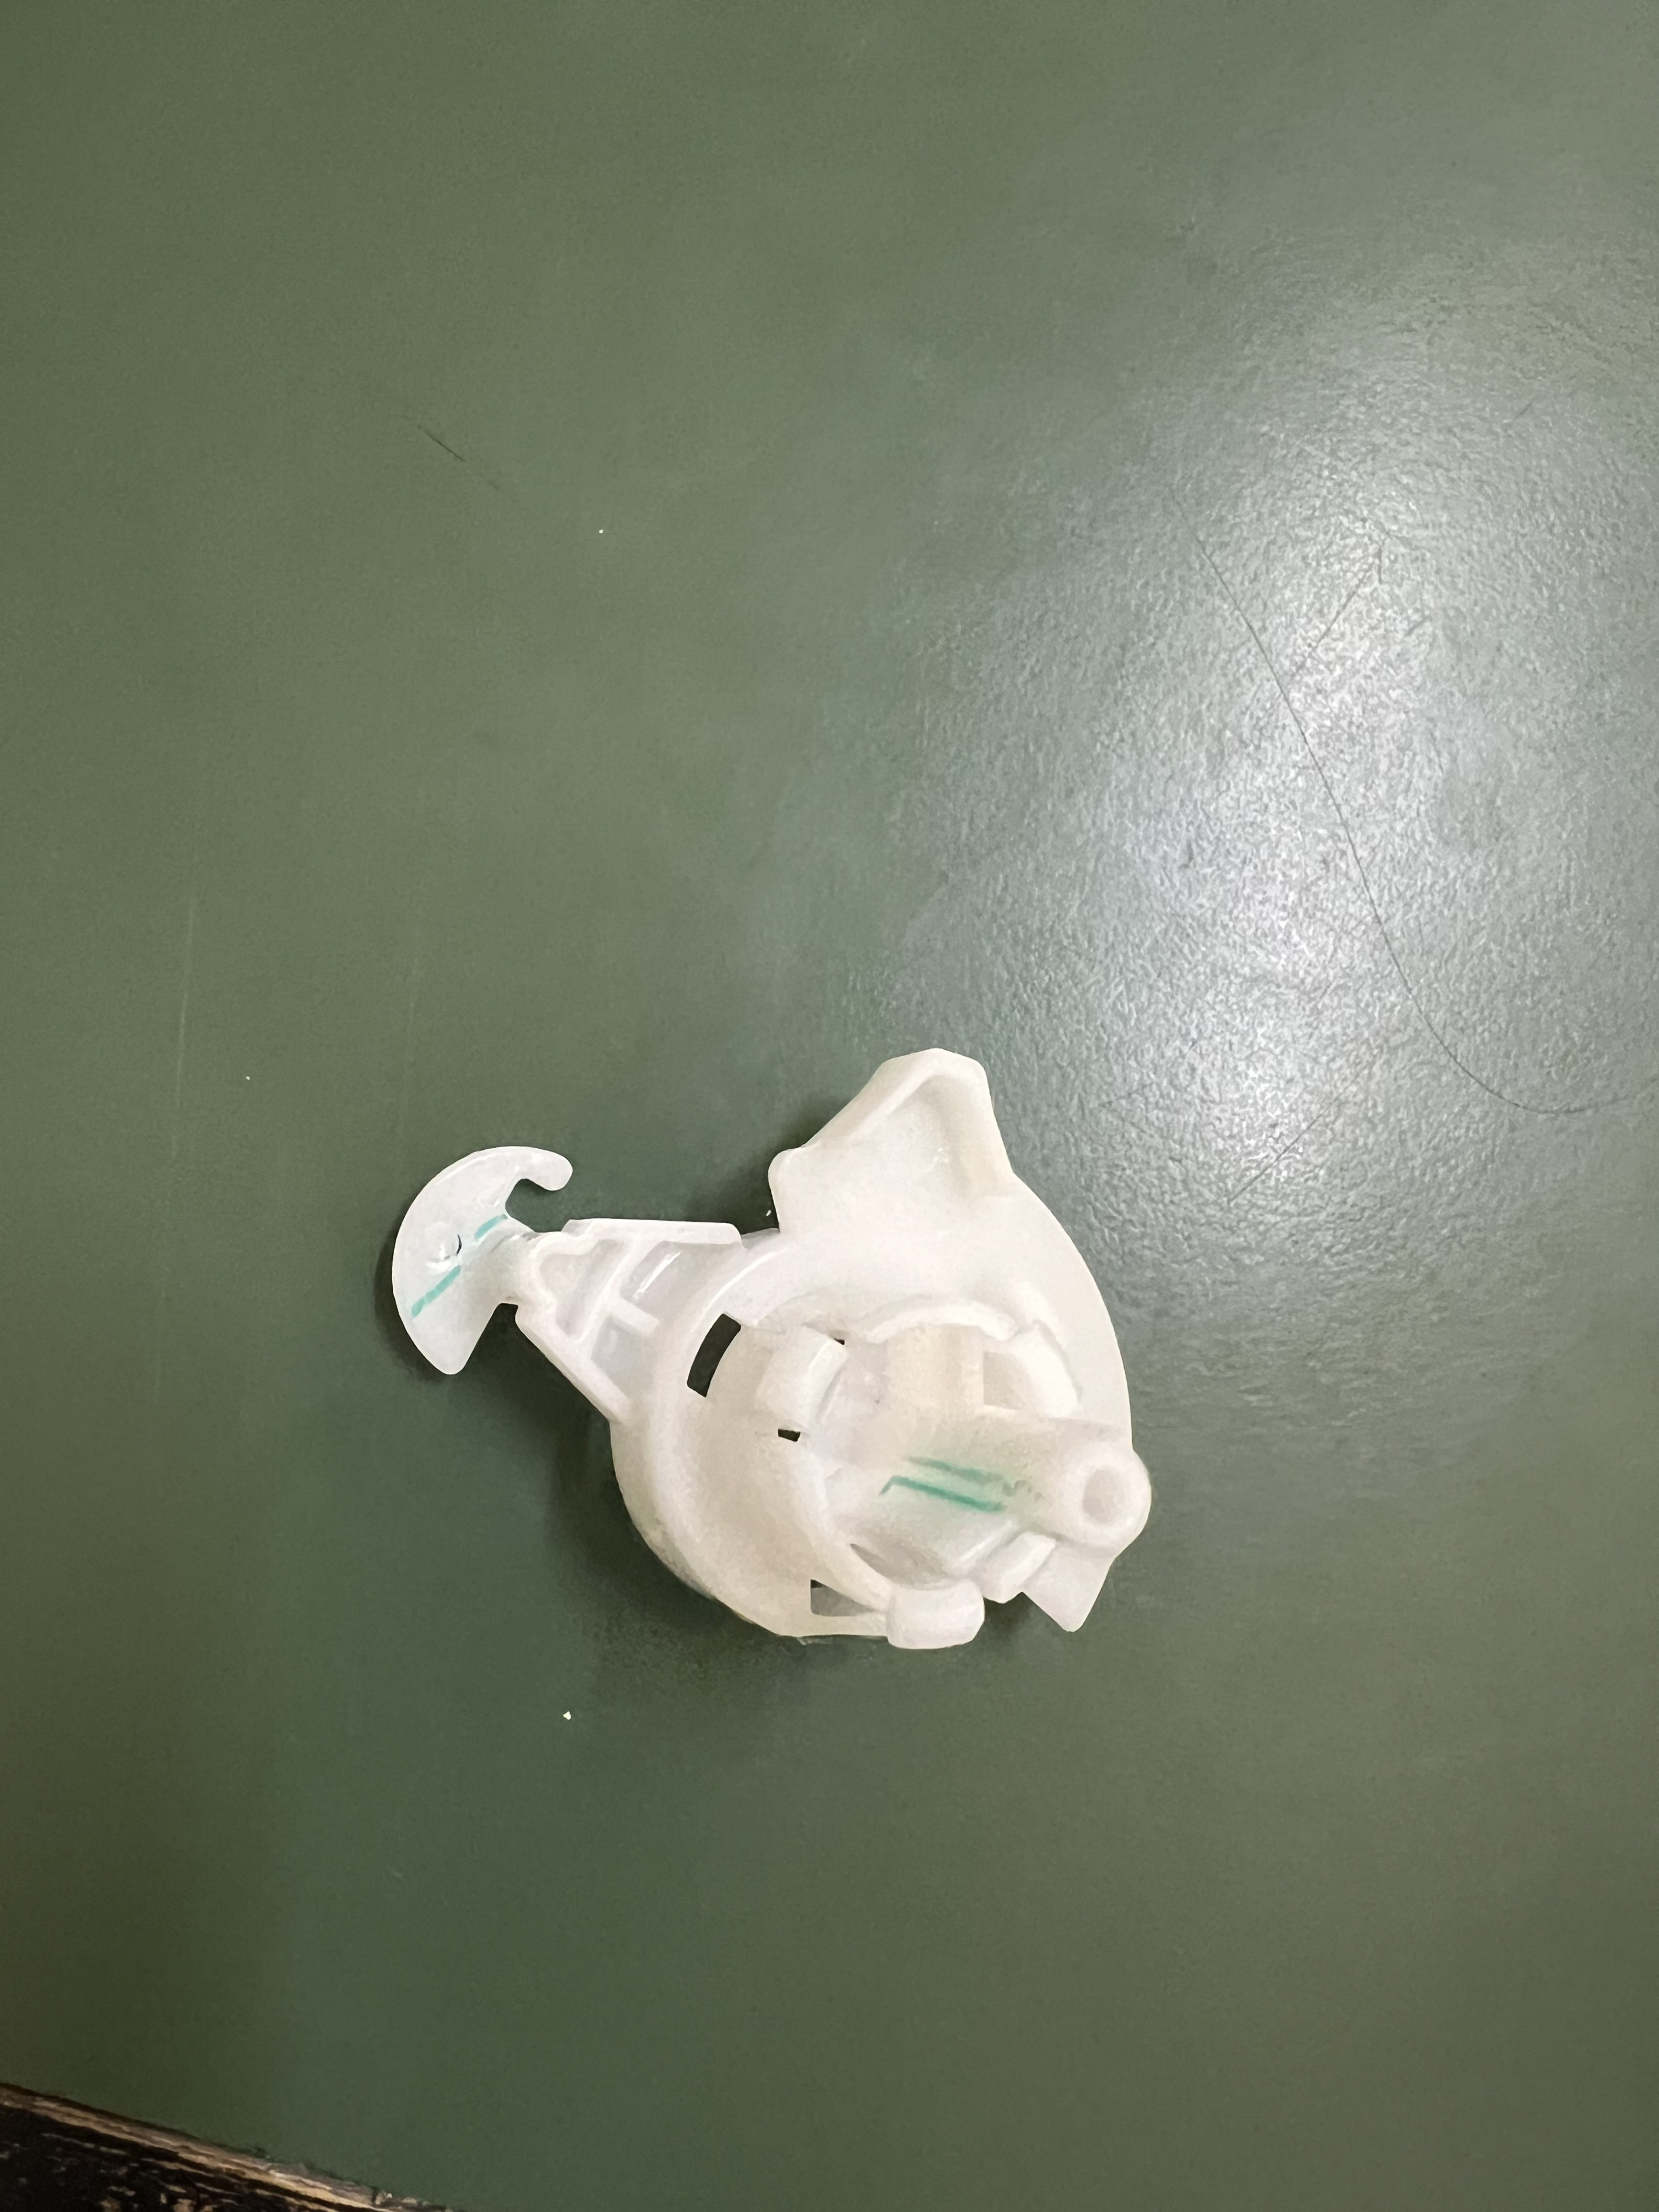drain_lever: (322, 1038, 1194, 1703)
